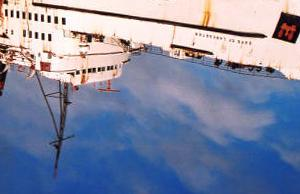rust: (200, 2, 213, 26), (1, 3, 11, 32), (98, 80, 114, 94), (74, 73, 88, 84), (170, 27, 176, 38)
